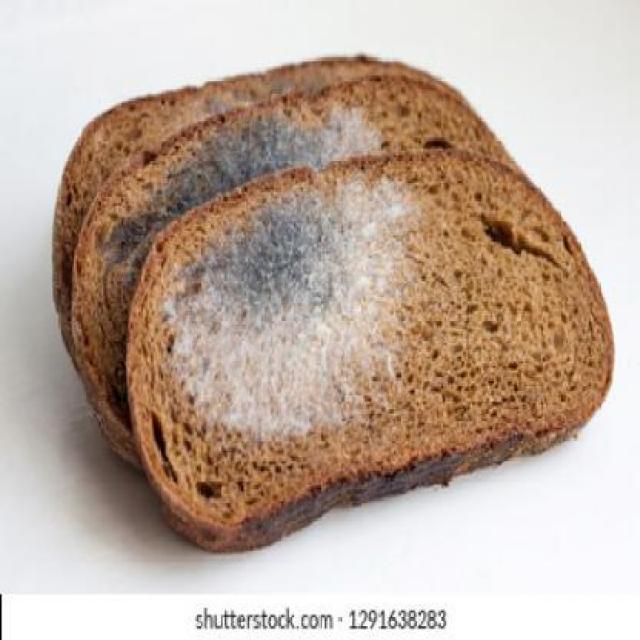mold_bread: (164, 186, 415, 439), (159, 101, 427, 179), (102, 183, 183, 282)
